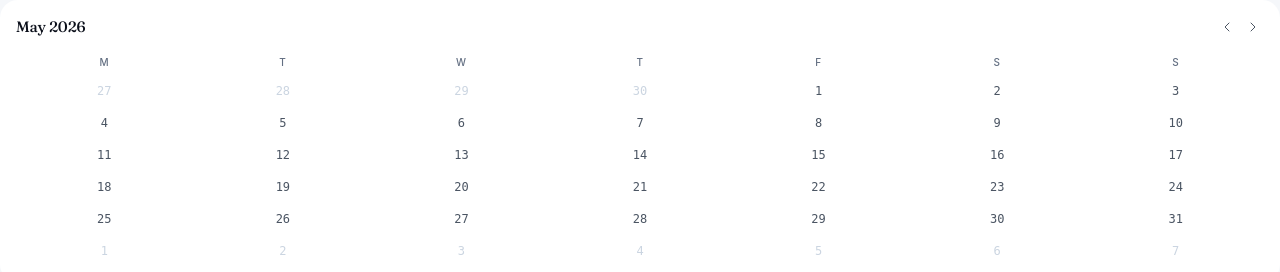
MiniCalendar › navigates to the next and previous month
The image size is (1280, 272).
Click the button named "Next month".
click(1253, 27)  # box [1242,16,1264,38]
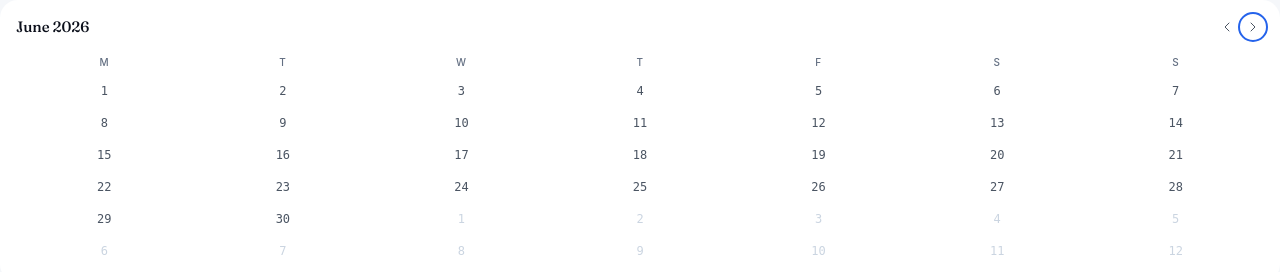
Expected: the text "June 2026" is shown, [16,16,89,38]
Click the button named "Previous month".
click(1227, 27)  # box [1216,16,1238,38]
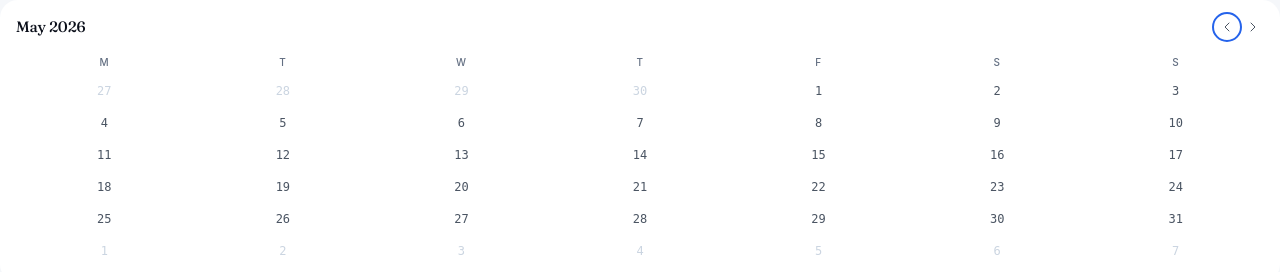
Expected: the text "May 2026" is shown, [16,16,86,38]
